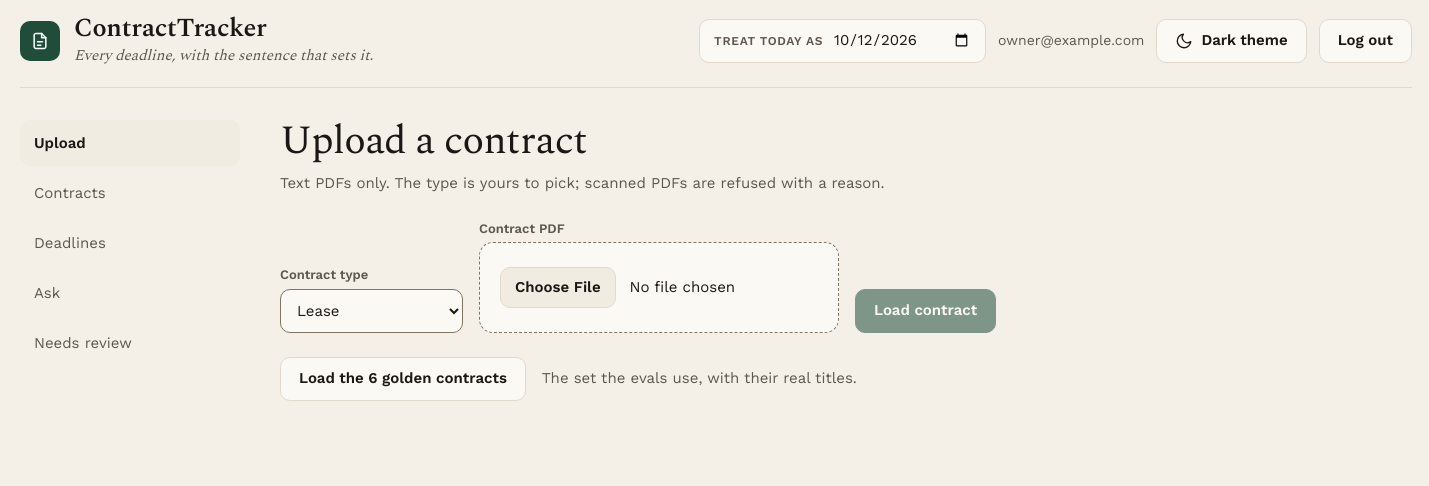
Test: the page › TC-0123: needs review lists each held field with its reason
Check: the tab "Upload" is shown, box x1=20 y1=120 x2=240 y2=166
Click the tab "Needs review": (130, 343) x1=20 y1=320 x2=240 y2=366
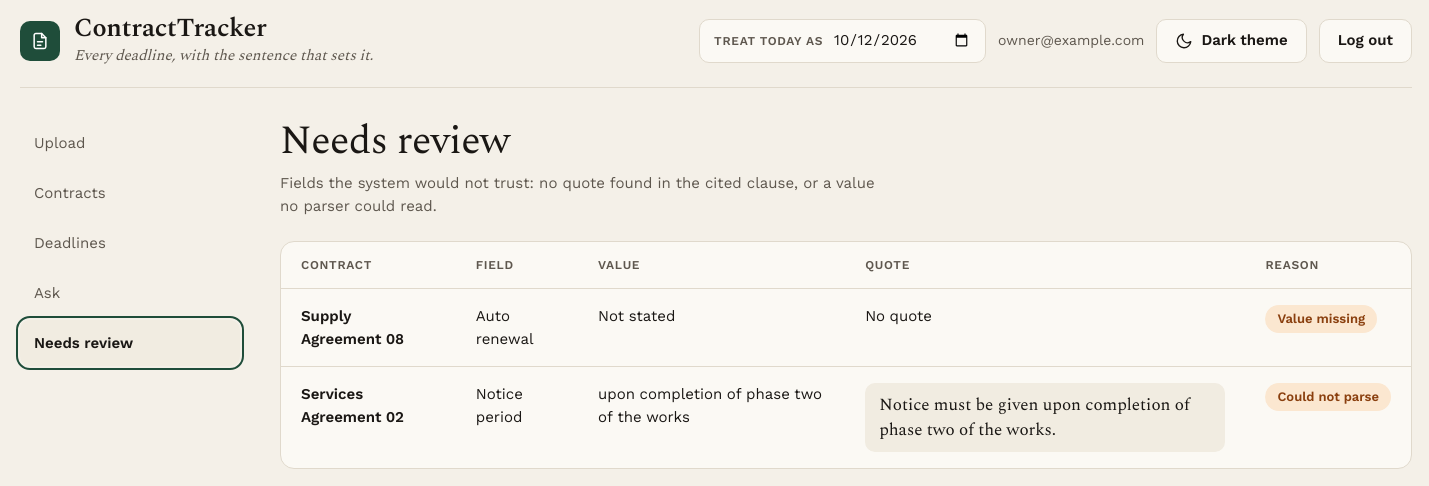
Check: the text "Notice period" is shown, box x1=456 y1=367 x2=578 y2=468
Check: the text "Could not parse" is shown, box x1=1266 y1=383 x2=1391 y2=411
